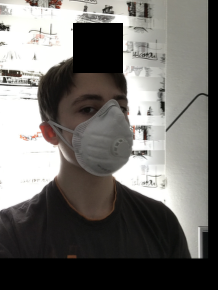with_mask: (67, 82, 133, 176)
